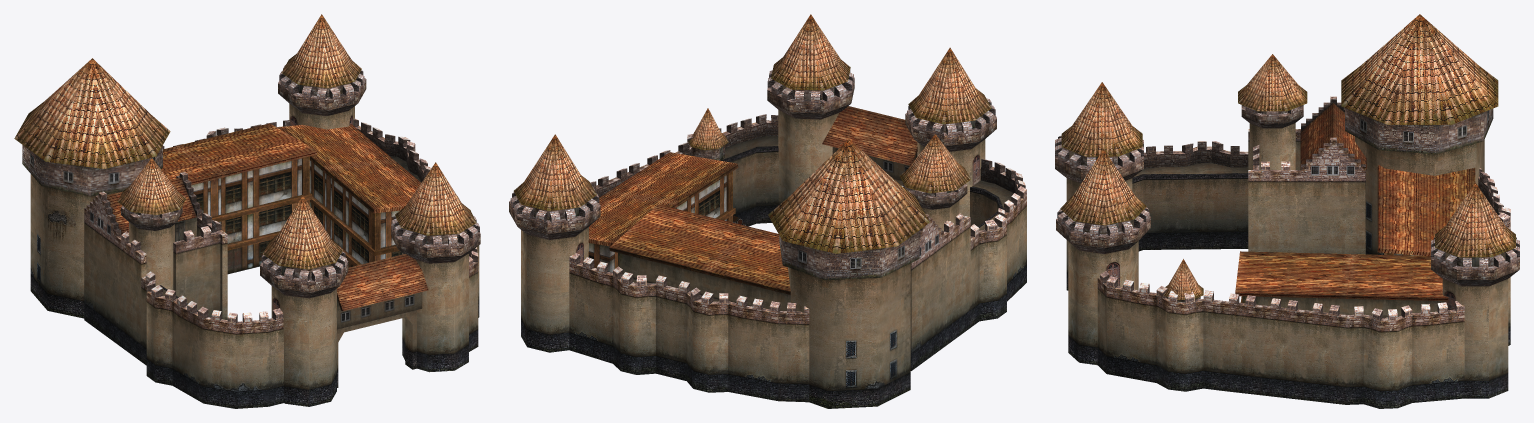
The model's file is MEB_Castle.FBX.
The picture shows the model from 3 angles, left to right: view 1: azimuth 30°, elevation 25°; view 2: azimuth 150°, elevation 25°; view 3: azimuth 270°, elevation 25°; orthographic projection. The views are drawn at different scales.
Parts seen in each view (by area): view 1: MEB_Castle; view 2: MEB_Castle; view 3: MEB_Castle.
Part boxes in pixels (x1,y1,x2,y2): MEB_Castle: [14, 14, 480, 408]; MEB_Castle: [509, 14, 1026, 408]; MEB_Castle: [1055, 14, 1519, 408].
Size of the model in its own units: 3397 by 2083 by 3621.
